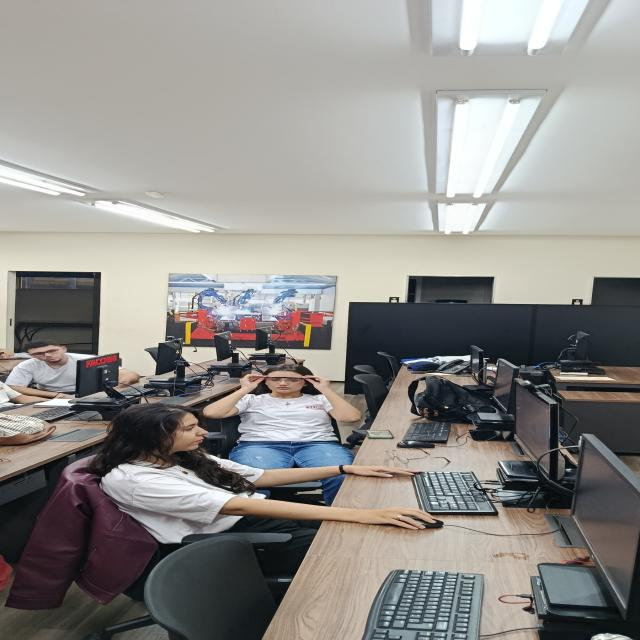oculos-epi: (264, 377, 306, 384)
sem_oculos: (163, 424, 209, 434), (39, 349, 59, 356)
